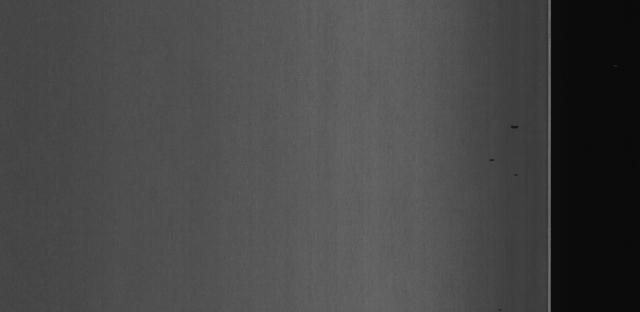inclusion: (506, 166, 524, 179), (483, 150, 498, 165)
oil_spot: (503, 119, 524, 134)
